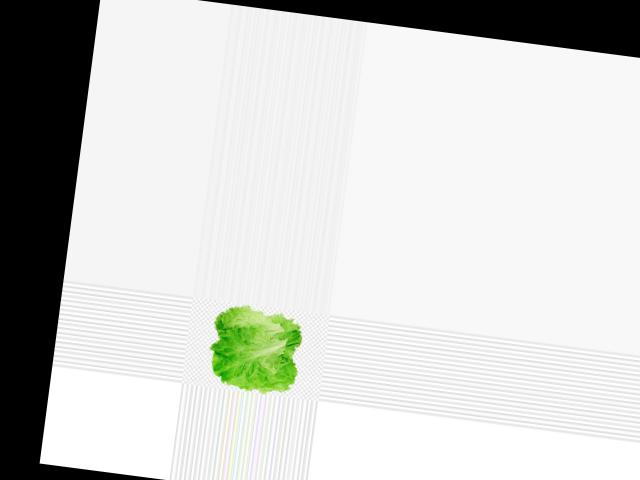lettuce: (199, 298, 311, 399)
